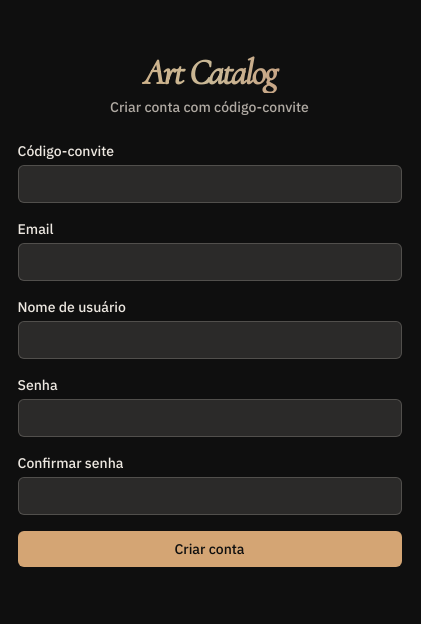
it: RegisterWithInvitePage › validates required fields
Click the button "Criar conta": [210, 549] box [18,531,402,567]
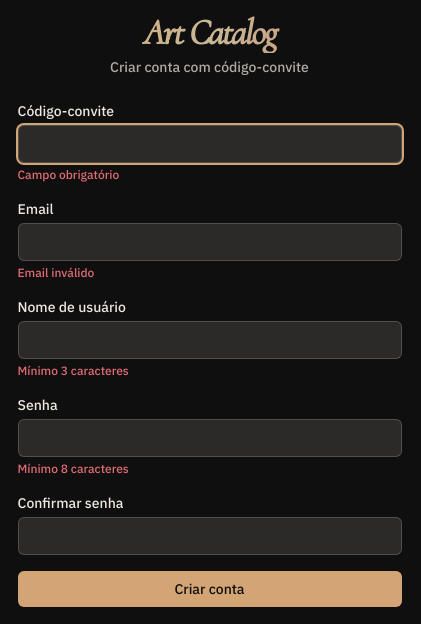
Expected: the text "Campo obrigatório" is shown, [18,167,119,182]
